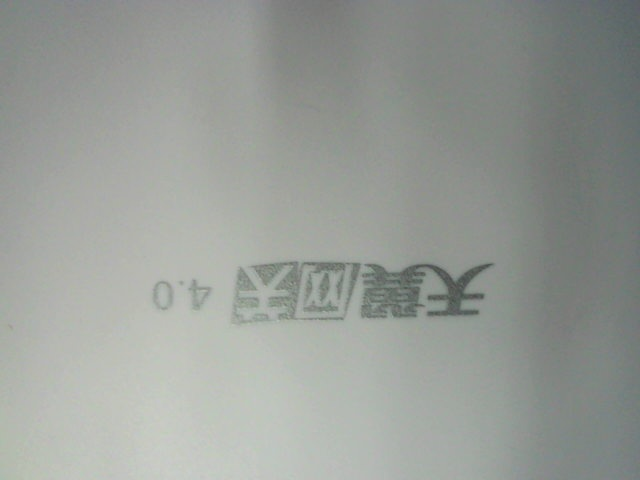BM_TianYiWangGuan: (143, 251, 496, 330)
